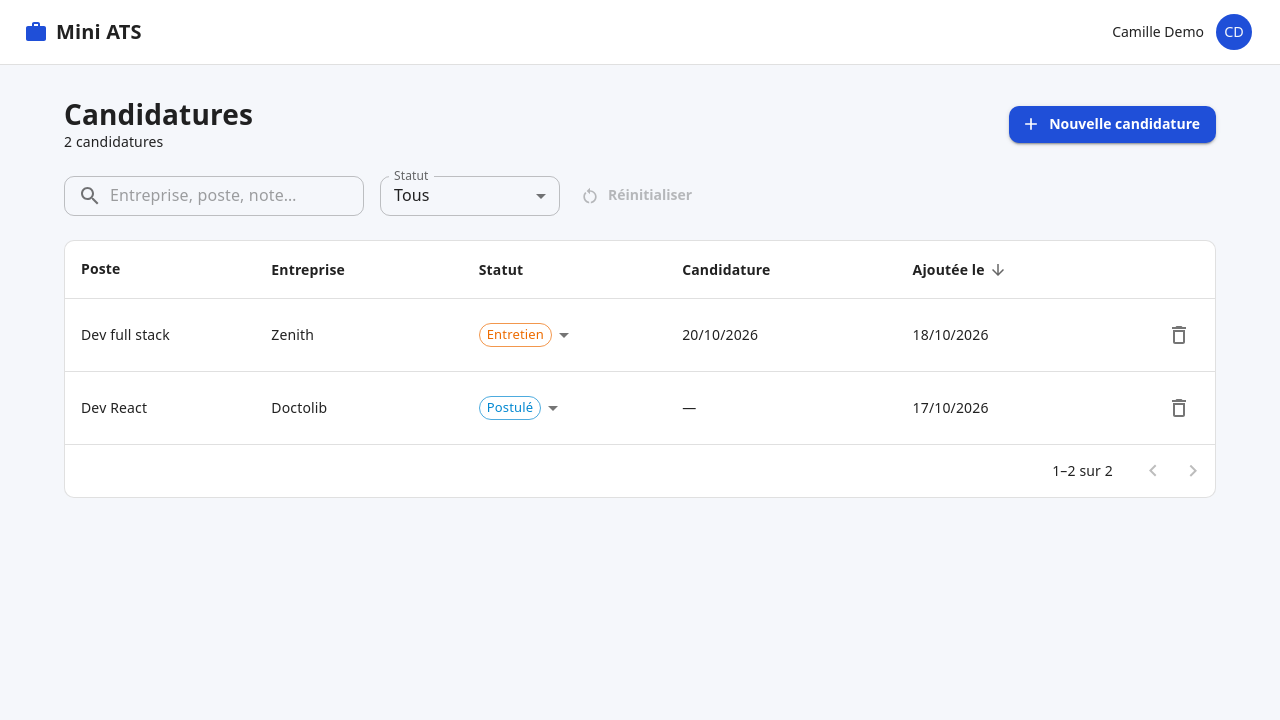
Test case: parcours applicatif › ouvre le détail au clic sur une ligne
Step 1. Click the text "Dev full stack" → (160, 335), box 65,298 -> 255,371
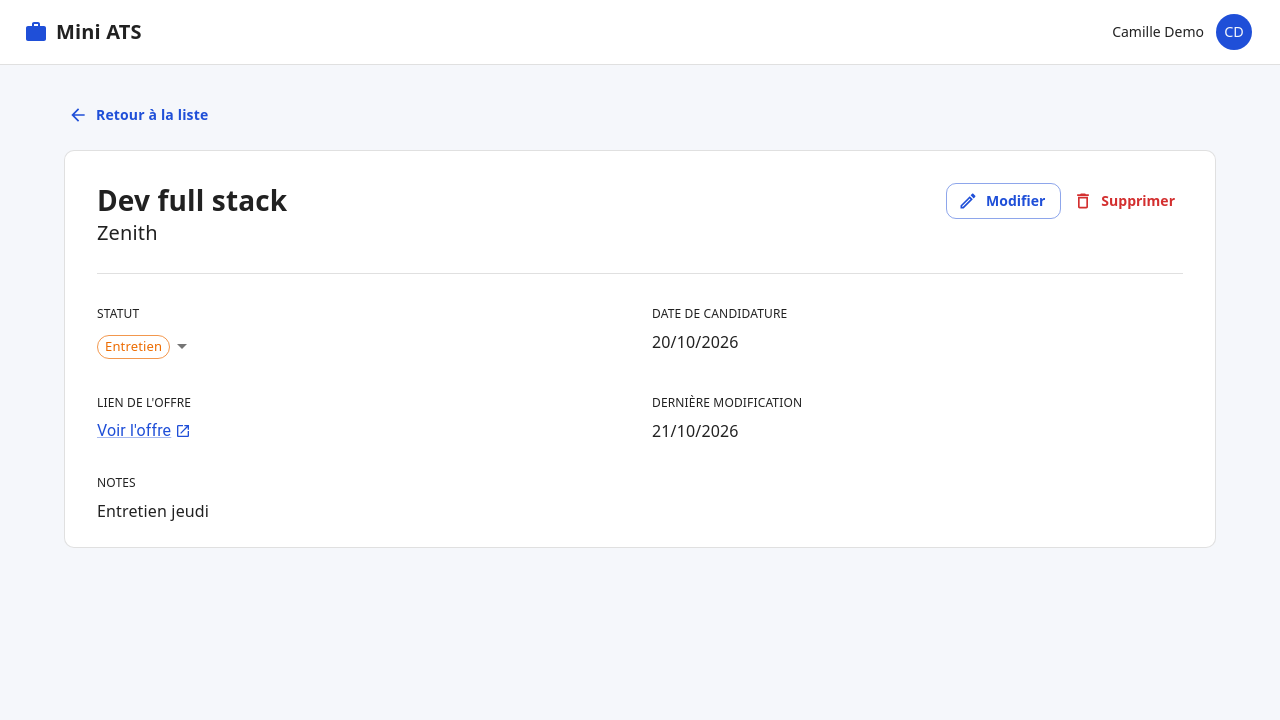
Expected: the heading "Dev full stack" is shown, 97,182 -> 287,217
Expected: the text "Entretien jeudi" is shown, 97,500 -> 209,522
